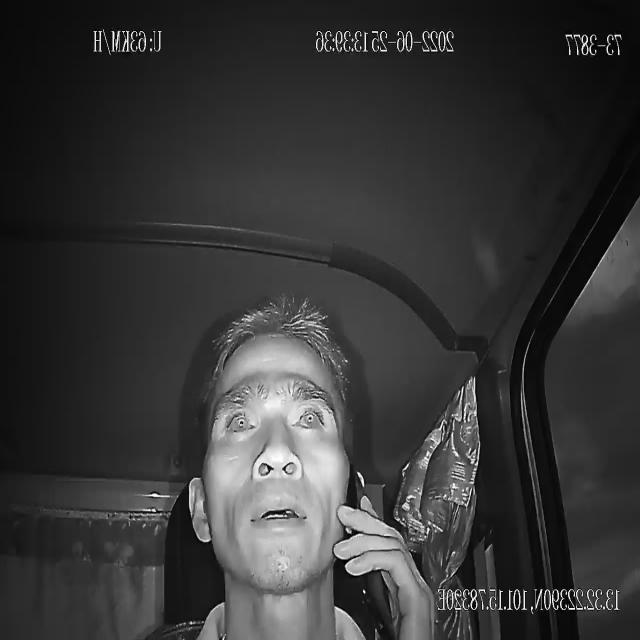phone: (347, 465, 394, 640)
